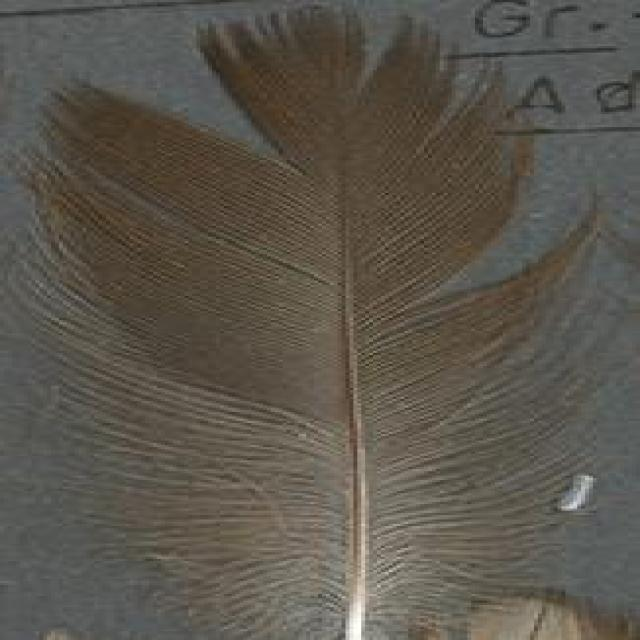feather: (17, 6, 611, 640)
